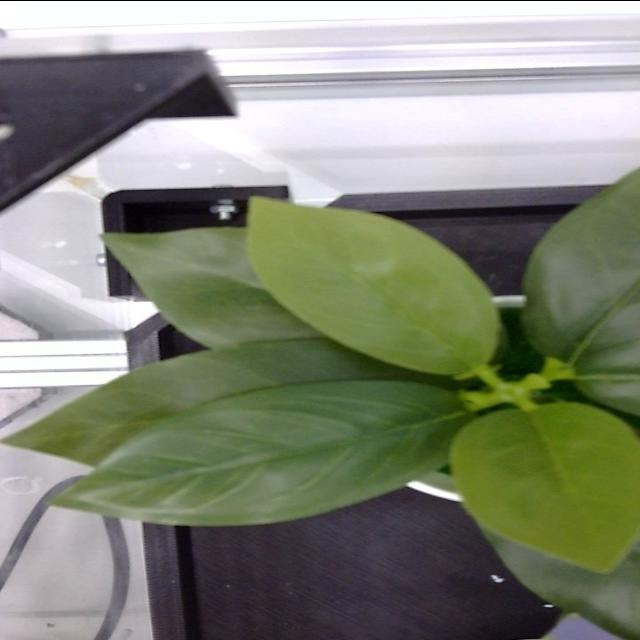Green: (55, 378, 472, 524), (4, 338, 446, 464), (246, 198, 498, 374), (453, 401, 639, 570), (102, 227, 308, 344), (524, 170, 639, 372), (481, 526, 639, 640), (580, 378, 639, 414)
